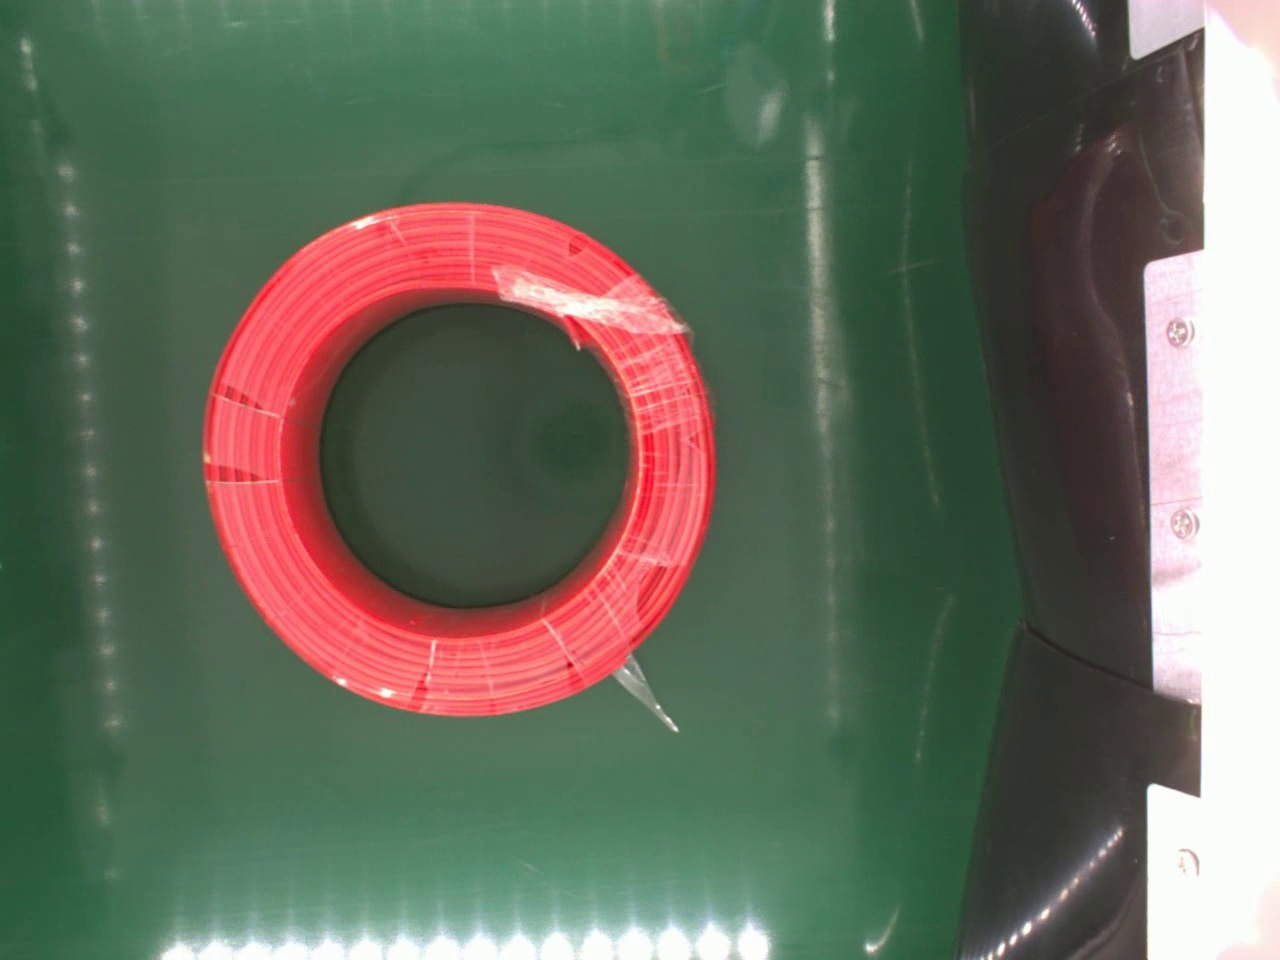red: (200, 195, 721, 714)
